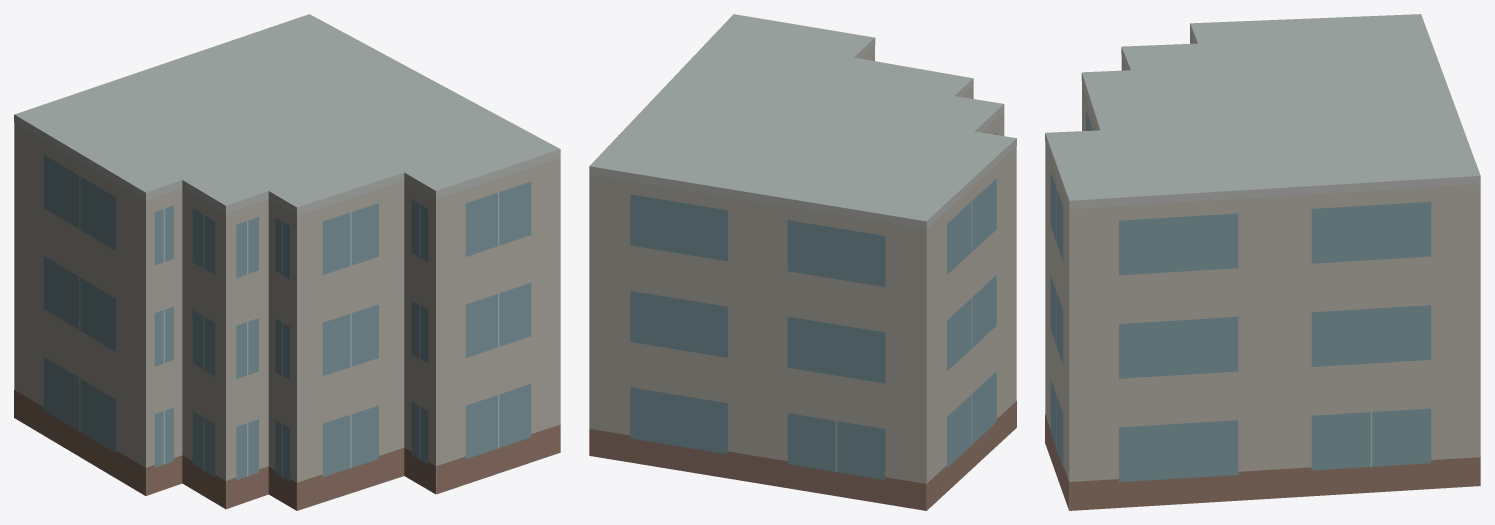
File: survey-upis-32671060.glb
3 views of the same model, side by side, from view 1: azimuth 30°, elevation 25°; view 2: azimuth 150°, elevation 25°; view 3: azimuth 270°, elevation 25° (orthographic). The views are drawn at different scales.
Visible parts, largest first — view 1: survey-upis-32671060.tmp; view 2: survey-upis-32671060.tmp; view 3: survey-upis-32671060.tmp.
Boxes of the visible parts, x1,y1,x2,y2 form: survey-upis-32671060.tmp: (14, 14, 560, 510); survey-upis-32671060.tmp: (589, 14, 1016, 510); survey-upis-32671060.tmp: (1045, 14, 1480, 510).
Size of the model in its own units: 11.83 by 9.15 by 11.66.
